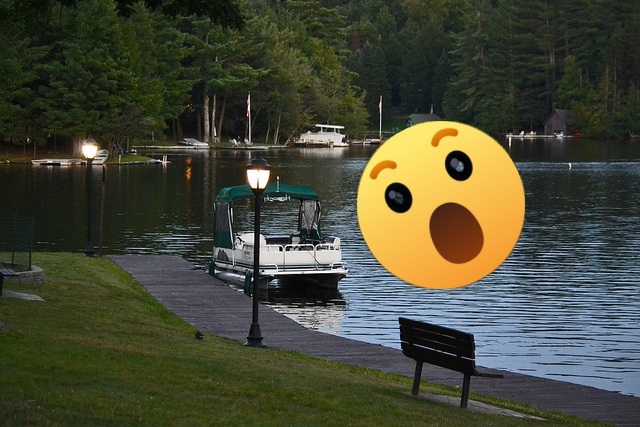wow: (357, 121, 525, 289)
